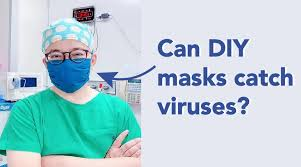masked: (39, 21, 97, 95)
